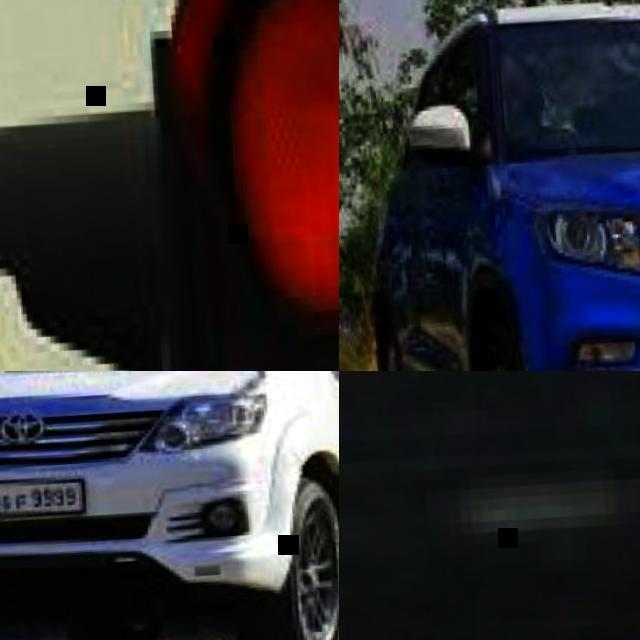car: (350, 10, 639, 638)
